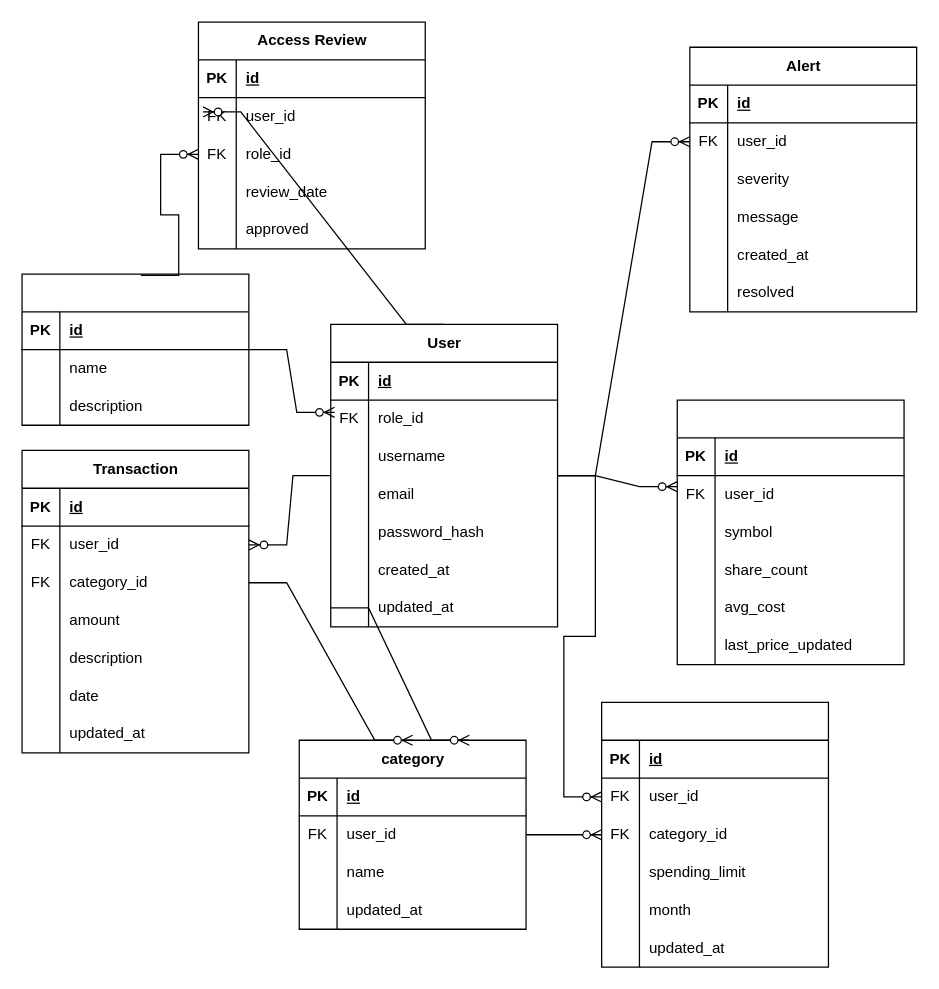
The diagram is 939 pixels wide and 989 high, and some of its shapes have lost their labels. Each missing label, with the box of its shape:
Budget: (600, 701, 828, 967)
Portfolio: (676, 399, 904, 665)
Role: (21, 273, 249, 425)
